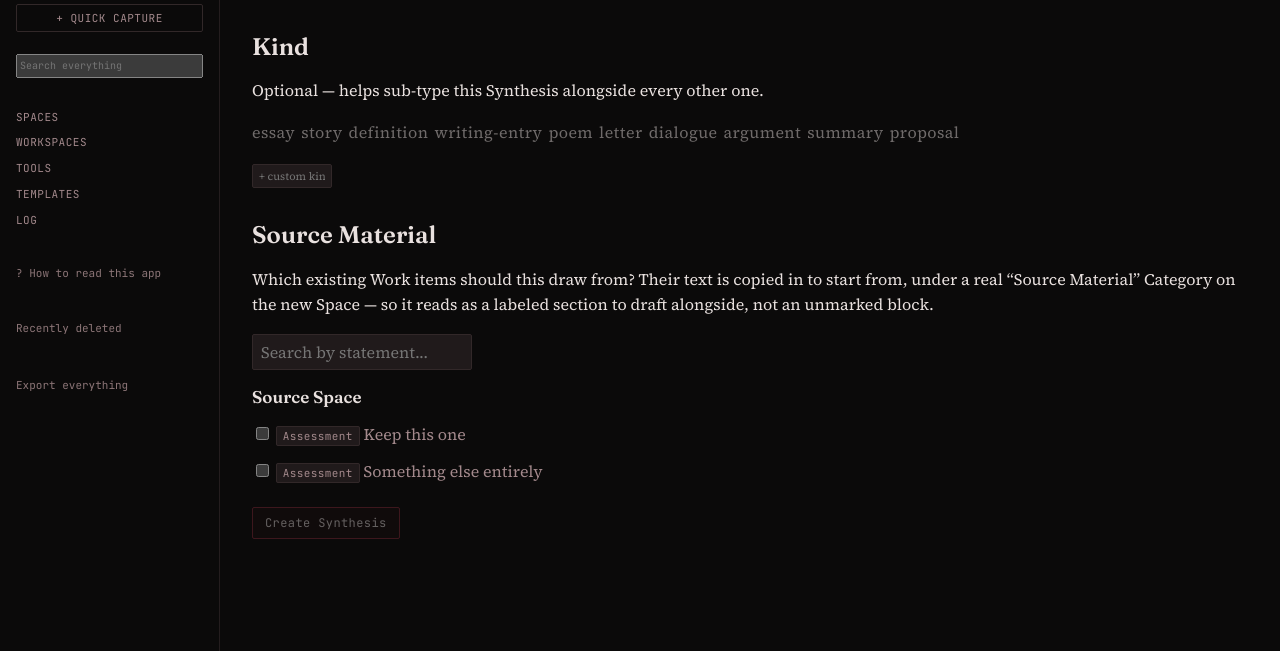
CreateSynthesis: source material picker › shows a selected count, and filtering by search does not lose an existing selection
The image size is (1280, 651).
(page scrolled)
Expected: the text "Keep this one" is shown, [364,423,466,445]
Click the checkbox labelled "Assessment Keep this one" at (262, 433), box [256,427,269,440]
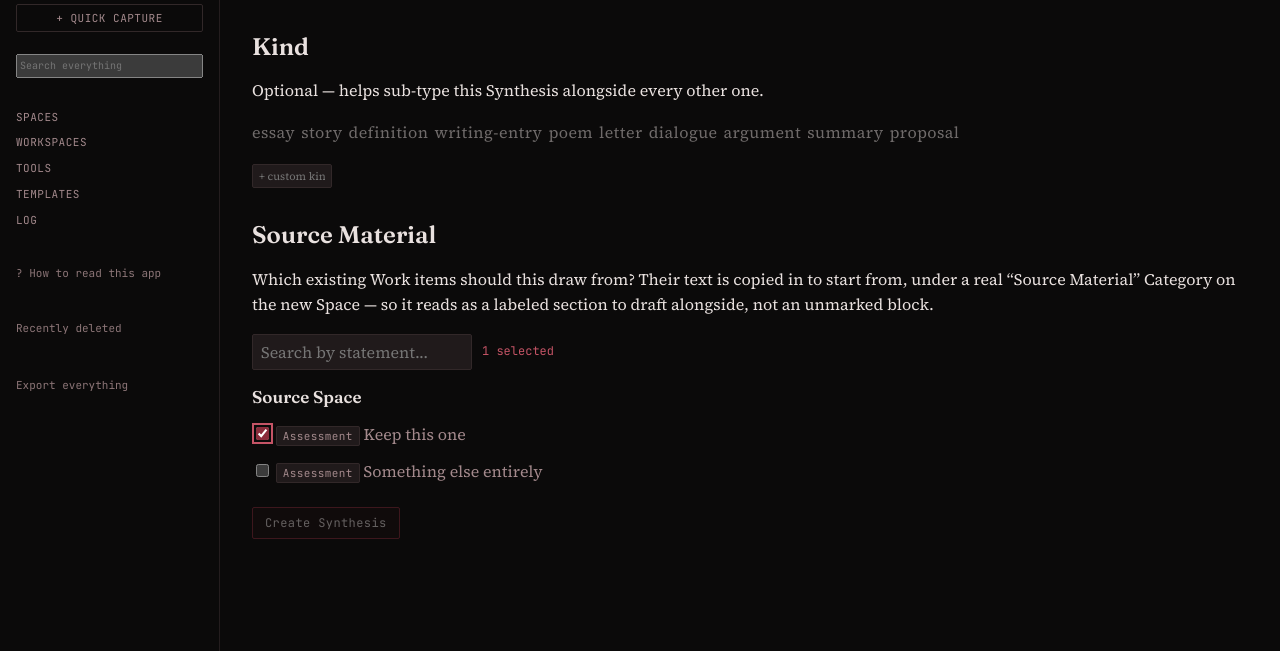
Result: the text "1 selected" is shown at [482,342,554,362]
Type "Something else" into the field with placeholder "Search by statement..." at (362, 352), box [252,334,472,370]
(page scrolled)
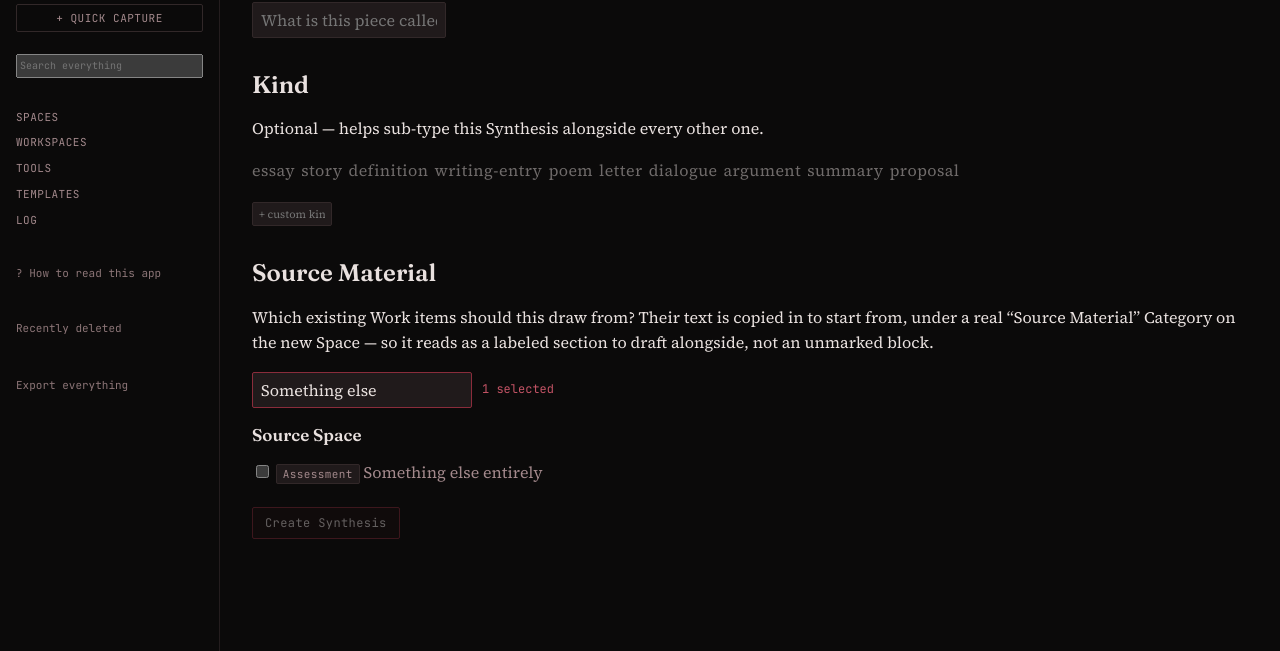
Result: the text "1 selected" is shown at [482,380,554,400]
Result: the text "Keep this one" is gone
Clear the field with placeholder "Search by statement..." at (362, 390), box [252,372,472,408]
(page scrolled)
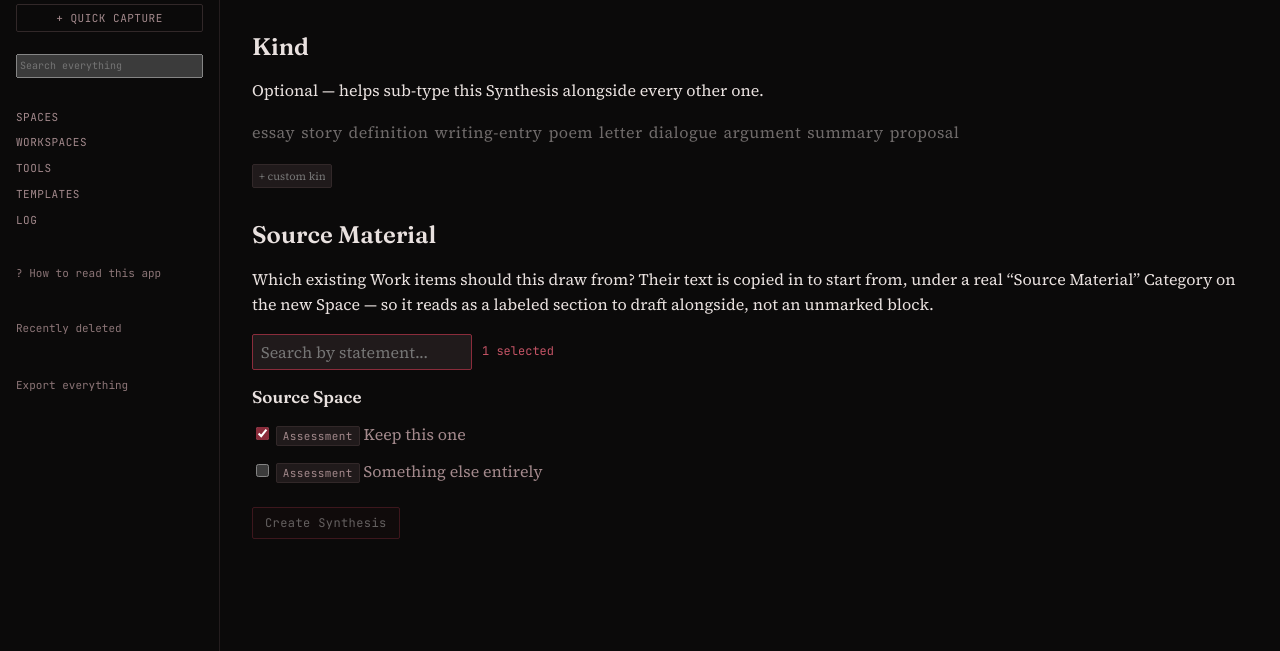
Result: the checkbox labelled "Assessment Keep this one" is checked at [256,427,269,440]
